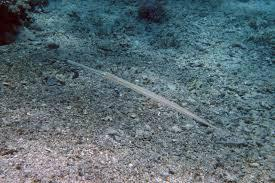Fistularia commersonii: (36, 41, 229, 144)
